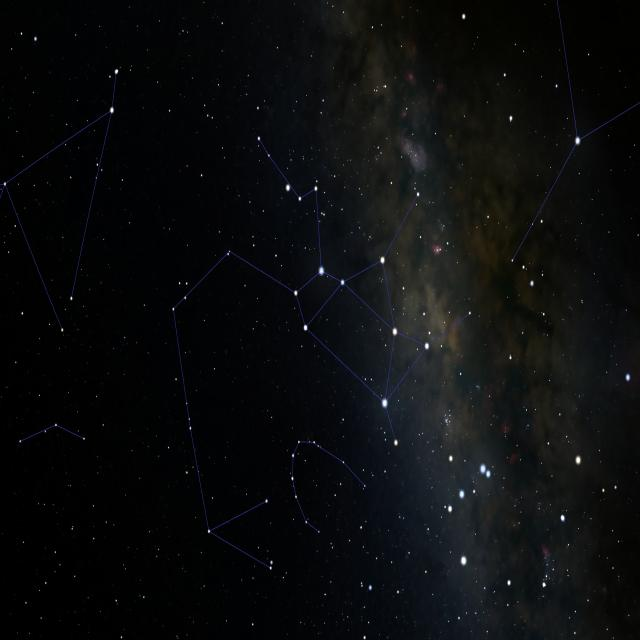Sagittarius: (166, 110, 456, 585)
